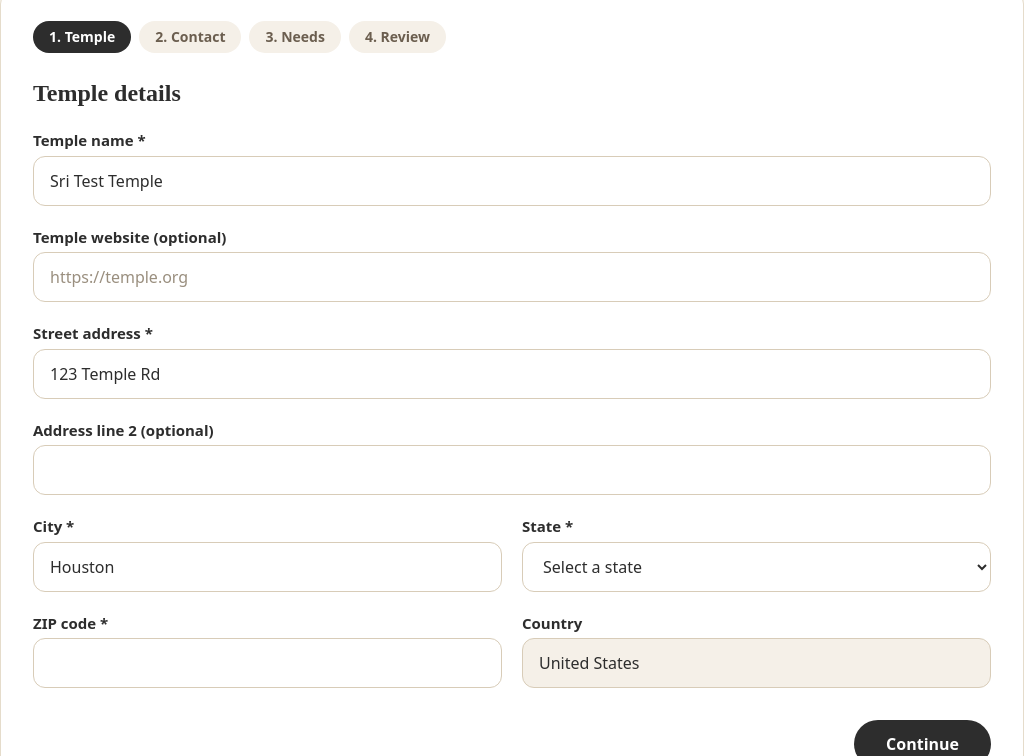
it: donation request critical flow › shows an honest error and preserves values when persistence fails
Earlier steps of the test are not shown.
Later steps or results of the test are not shown.
Step 1. Select "Texas" in the dropdown labelled "State *" → {"x": 756, "y": 566}, box [522,542,991,592]
Step 2. Type "77001" into the field labelled "ZIP code *" → {"x": 268, "y": 663}, box [33,638,502,688]
(page scrolled)
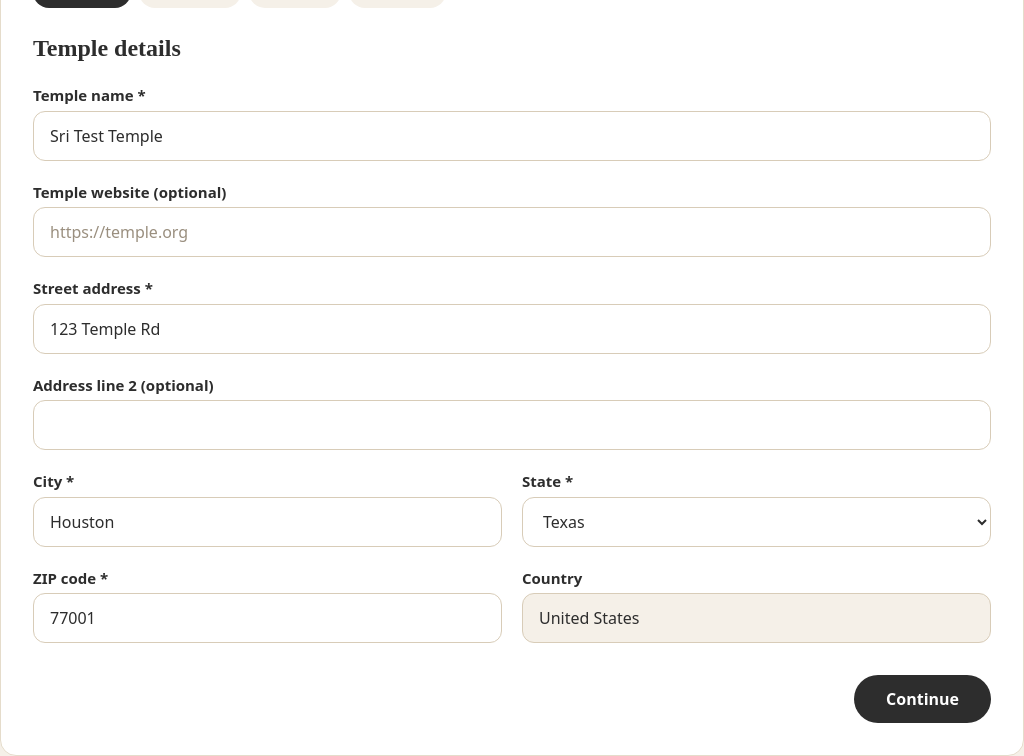
Step 3. Click the button "Continue" → {"x": 923, "y": 699}, box [854,675,991,723]
(page scrolled)
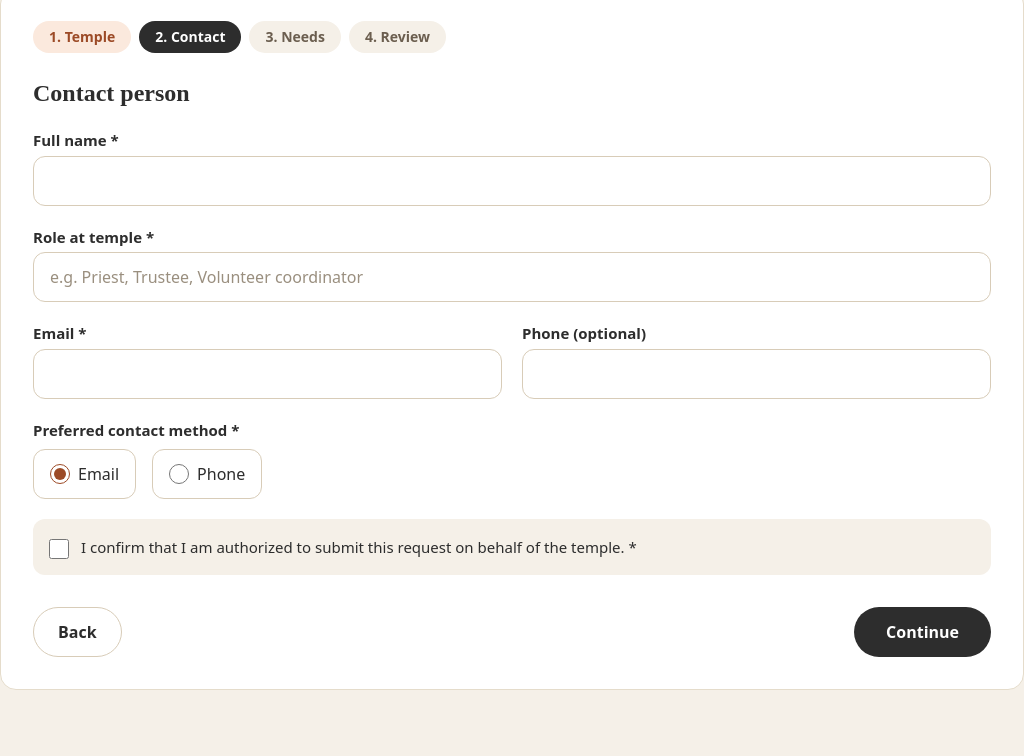
Now the text "Contact person" is shown, box [33,77,190,109]
Step 4. Type "Jane Doe" into the field labelled "Full name *" → {"x": 512, "y": 180}, box [33,156,991,206]
Step 5. Type "Trustee" into the field labelled "Role at temple *" → {"x": 512, "y": 277}, box [33,252,991,302]
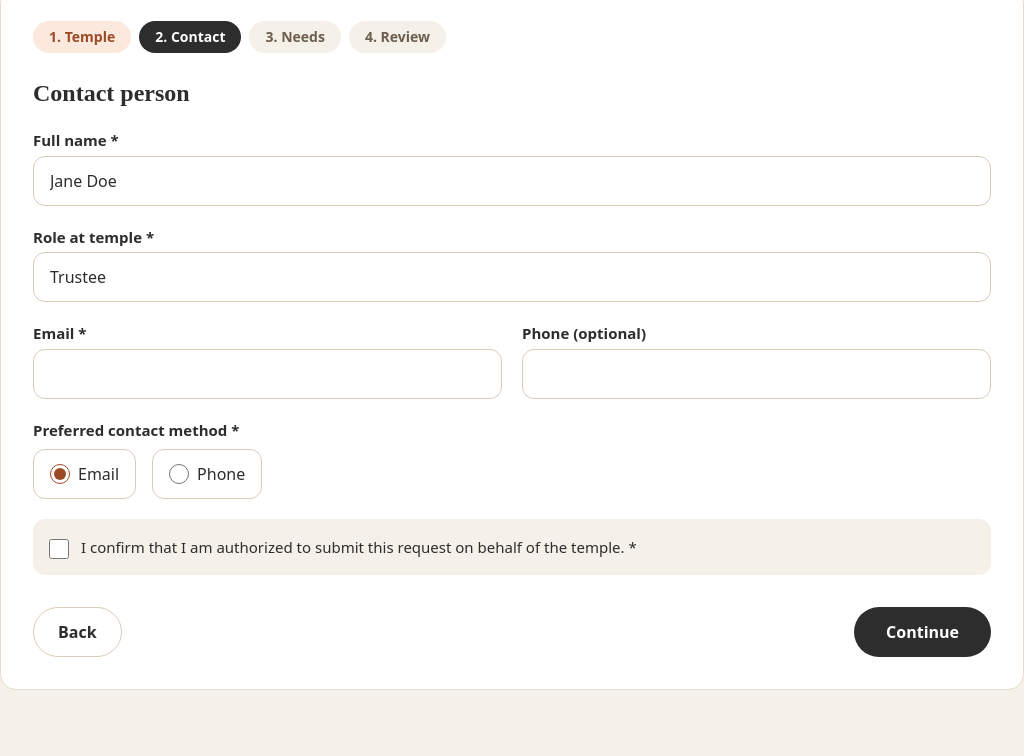
Step 6. Type "jane@example.org" into the field labelled "Email *" → {"x": 268, "y": 374}, box [33,348,502,398]
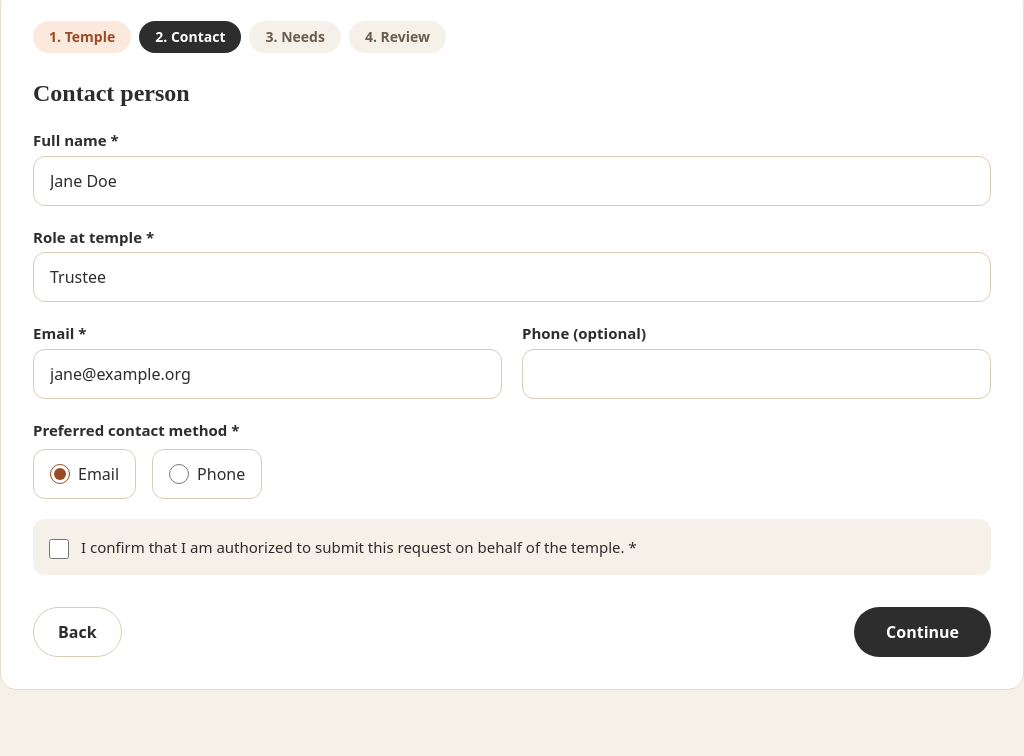
Step 7. Click the checkbox labelled "authorized to submit" → {"x": 59, "y": 549}, box [49,539,69,559]
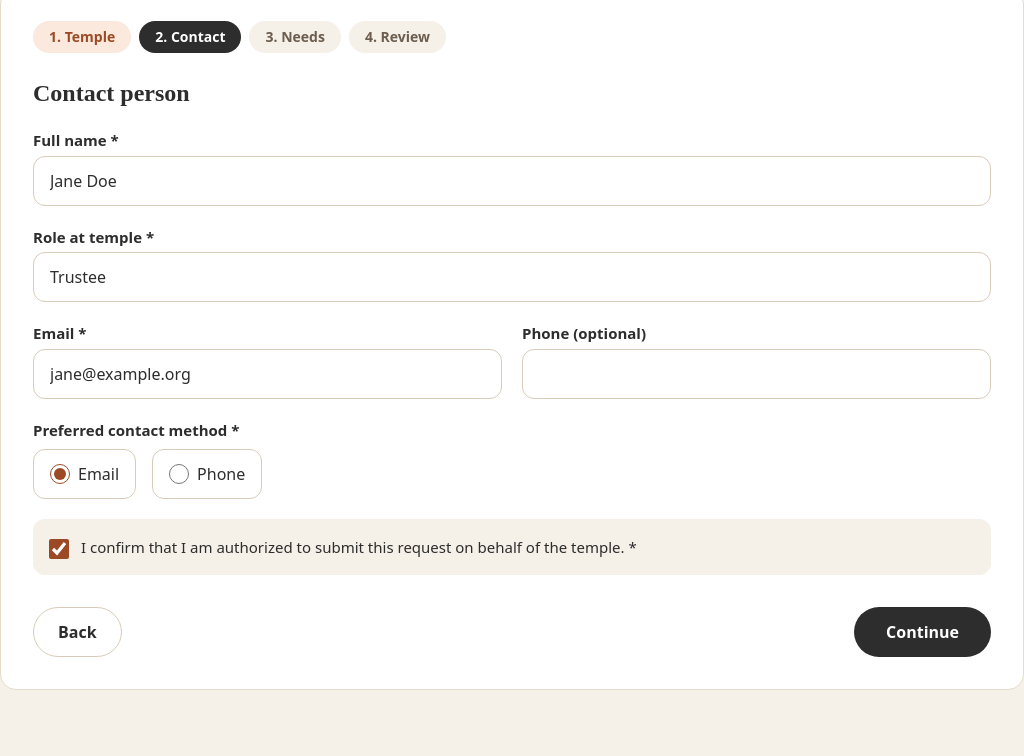
Step 8. Click the button "Continue" → {"x": 923, "y": 632}, box [854,607,991,657]
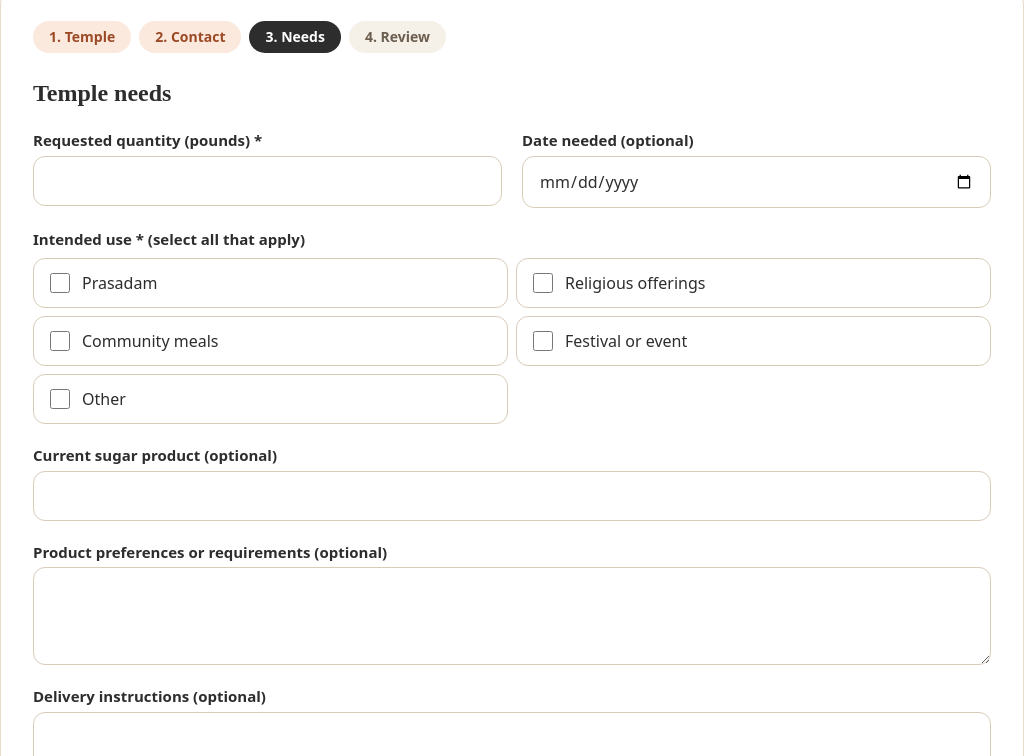
Now the text "Temple needs" is shown, box [33,77,172,109]
